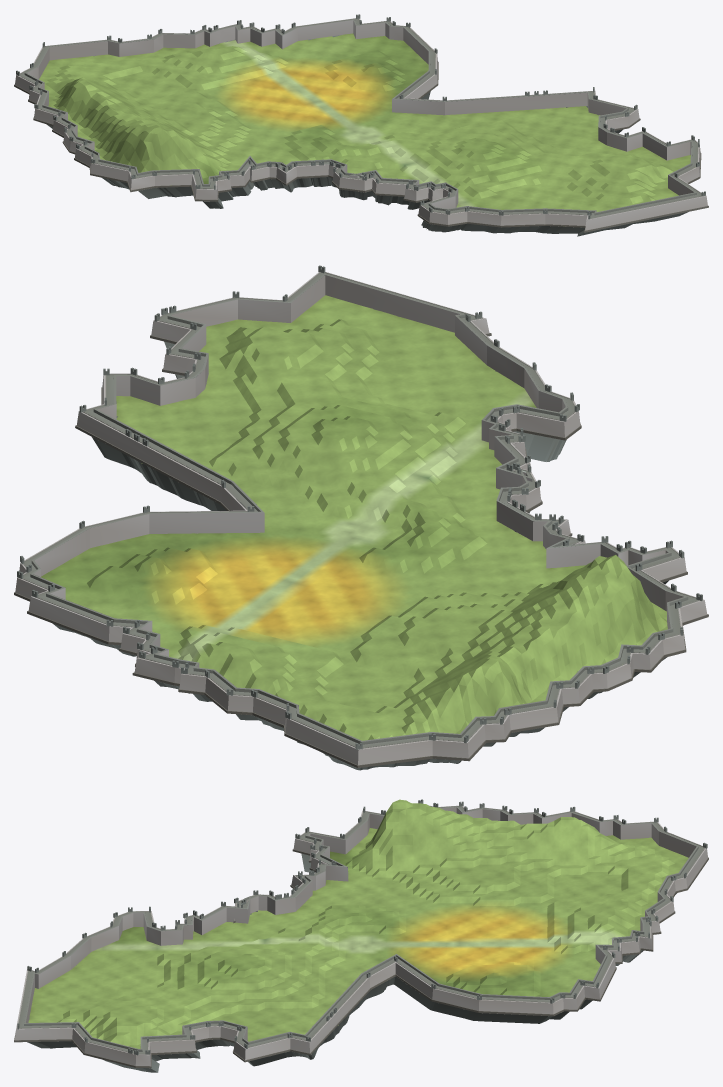
The picture shows the model from 3 angles, top to bottom: view 1: azimuth 30°, elevation 25°; view 2: azimuth 150°, elevation 25°; view 3: azimuth 270°, elevation 25°; orthographic projection. The views are drawn at different scales.
Visible parts, largest first — view 1: ground_9d793b68; view 2: ground_9d793b68; view 3: ground_9d793b68.
Part boxes in pixels (box(x1,y1,x2,y2)): ground_9d793b68: box(14, 14, 708, 236); ground_9d793b68: box(14, 265, 708, 770); ground_9d793b68: box(14, 799, 708, 1072).
Size of the model in its own units: 134 by 14.42 by 155.
3 materials, 1 textured.
